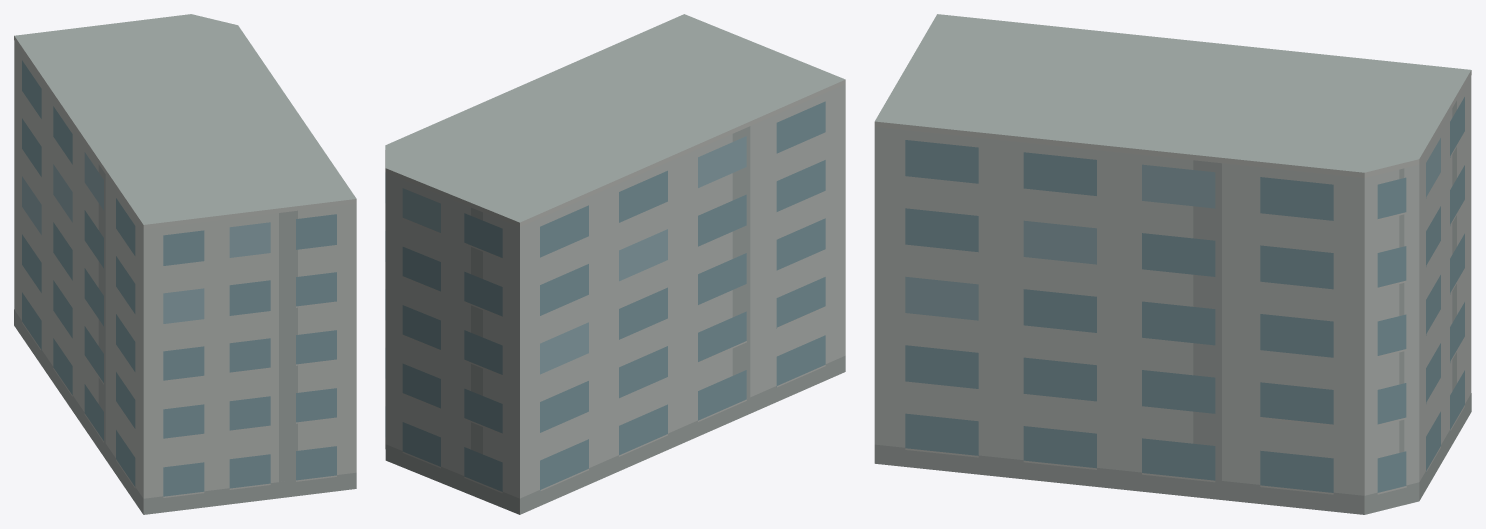
Rendered from survey-upis-32868527.glb.
3 views of the same model, side by side, from view 1: azimuth 30°, elevation 25°; view 2: azimuth 150°, elevation 25°; view 3: azimuth 270°, elevation 25° (orthographic). The views are drawn at different scales.
Visible parts, largest first — view 1: survey-upis-32868527.tmp; view 2: survey-upis-32868527.tmp; view 3: survey-upis-32868527.tmp.
Part boxes in pixels (x1,y1,x2,y2): survey-upis-32868527.tmp: [14, 14, 356, 514]; survey-upis-32868527.tmp: [385, 14, 845, 514]; survey-upis-32868527.tmp: [874, 14, 1471, 514].
Size of the model in its own units: 15.18 by 15.25 by 24.11.
